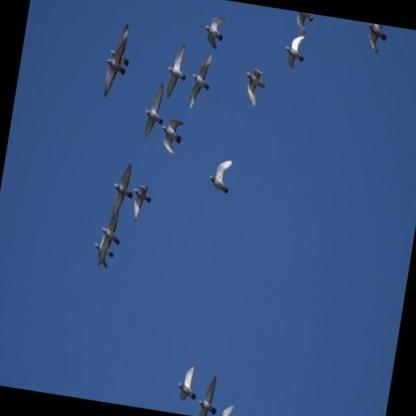bird: (105, 21, 135, 86), (101, 37, 131, 100), (108, 161, 138, 223), (187, 50, 216, 112), (97, 207, 126, 269), (163, 42, 192, 102), (141, 80, 170, 140), (195, 371, 222, 416), (241, 67, 269, 109), (90, 230, 118, 271), (158, 118, 186, 157), (281, 34, 307, 76), (175, 362, 201, 404), (207, 157, 235, 195), (129, 184, 154, 226), (202, 15, 228, 52), (363, 23, 389, 55), (294, 12, 315, 36)
